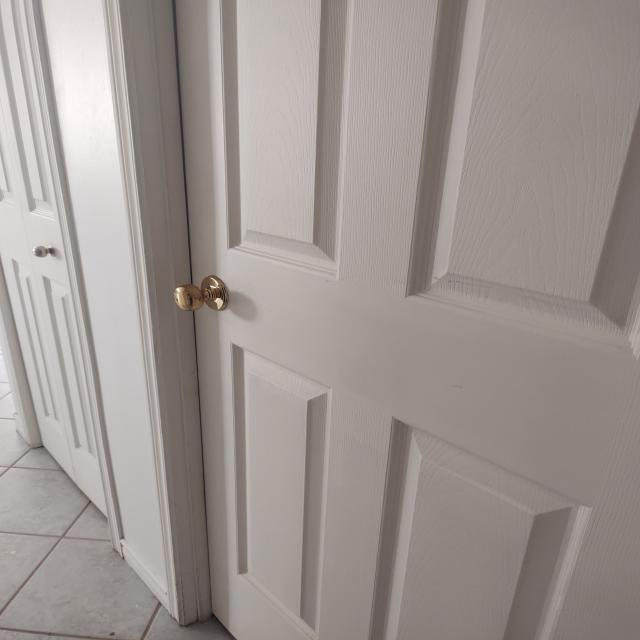door-knob: (174, 275, 229, 311)
